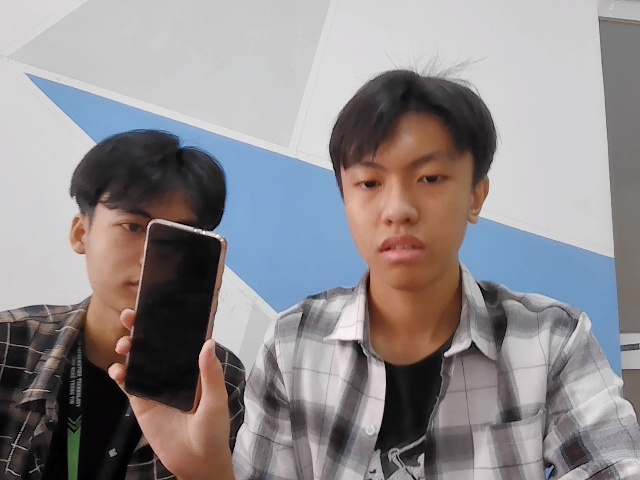human: (337, 83, 498, 285)
phone: (119, 213, 227, 420)
